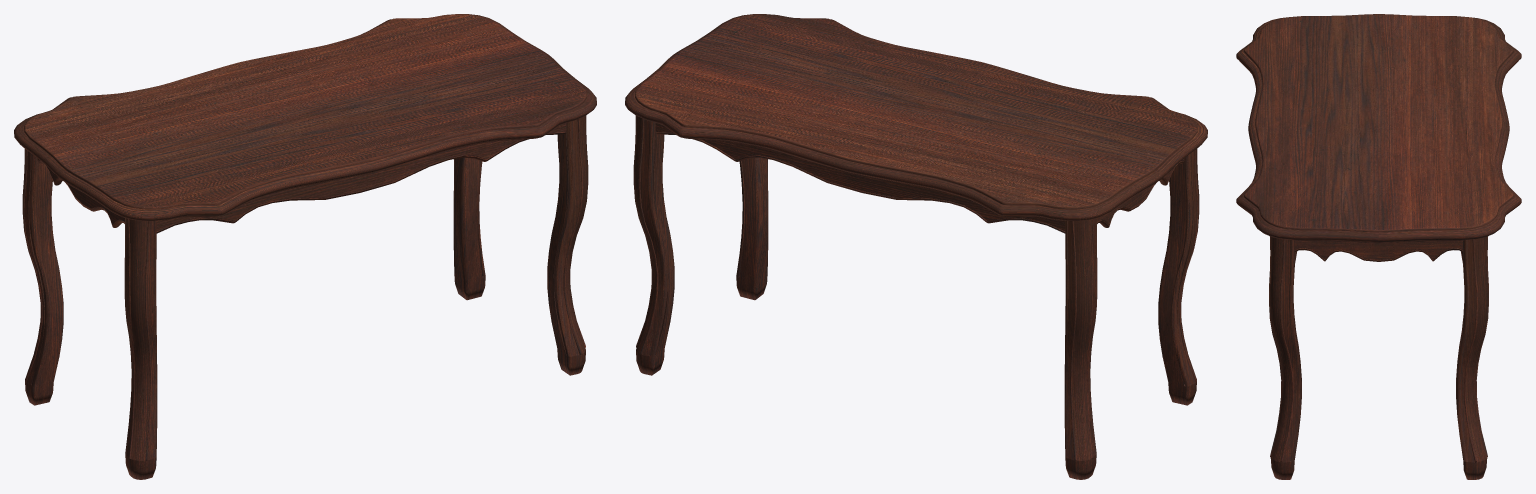
Rendered from Table.fbx.
3 renders of one model, left to right at view 1: azimuth 30°, elevation 25°; view 2: azimuth 150°, elevation 25°; view 3: azimuth 270°, elevation 25°, orthographic. The views are drawn at different scales.
Parts seen in each view (by area): view 1: Board, Leg3, Leg4, Leg1, Board1, Leg2, Board2; view 2: Board, Leg1, Leg2, Leg3, Board3, Leg4, Board2; view 3: Board, Leg2, Leg4, Board4.
Part boxes in pixels (box(x1,y1,x2,y2)): Board: box(14, 14, 596, 220); Leg3: box(124, 218, 157, 479); Leg4: box(547, 115, 588, 375); Leg1: box(22, 149, 63, 405); Board1: box(156, 123, 566, 233); Leg2: box(453, 157, 485, 300); Board2: box(37, 158, 124, 227); Board: box(625, 14, 1207, 220); Leg1: box(1064, 218, 1097, 479); Leg2: box(633, 115, 674, 375); Leg3: box(1158, 149, 1199, 405); Board3: box(655, 123, 1065, 233); Leg4: box(736, 157, 768, 300); Board2: box(1097, 158, 1184, 227); Board: box(1236, 14, 1521, 242); Leg2: box(1456, 236, 1488, 479); Leg4: box(1269, 236, 1301, 479); Board4: box(1295, 240, 1462, 261).
Size of the model in its own units: 6.04 by 3.25 by 3.28.
1 material, 1 textured.
